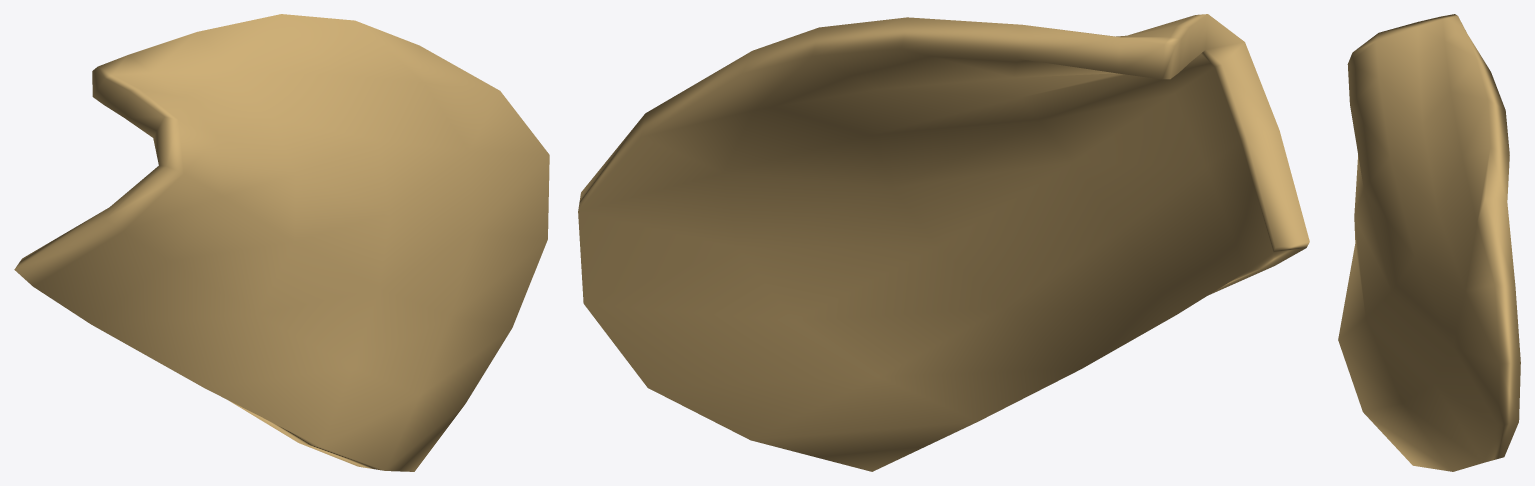
The picture shows the model from 3 angles, left to right: view 1: azimuth 30°, elevation 25°; view 2: azimuth 150°, elevation 25°; view 3: azimuth 270°, elevation 25°; orthographic projection. The views are drawn at different scales.
Visible parts, largest first — view 1: 右侧外侧半月板后半月板胫骨韧带; view 2: 右侧外侧半月板后半月板胫骨韧带; view 3: 右侧外侧半月板后半月板胫骨韧带.
Part boxes in pixels (x1,y1,x2,y2): 右侧外侧半月板后半月板胫骨韧带: (14, 14, 549, 471); 右侧外侧半月板后半月板胫骨韧带: (578, 14, 1309, 471); 右侧外侧半月板后半月板胫骨韧带: (1338, 14, 1520, 471).
Bounding box in the file's own units: 0.016 × 0.0119 × 0.00571.
